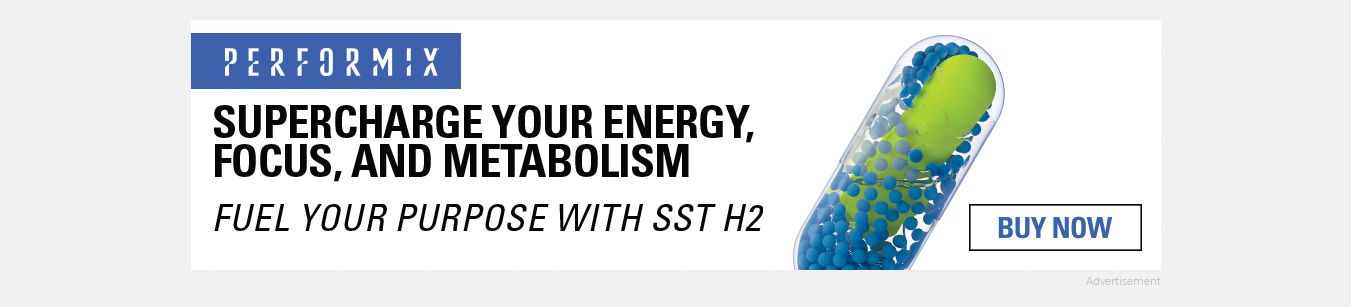fake_button: (952, 188, 1153, 263)
